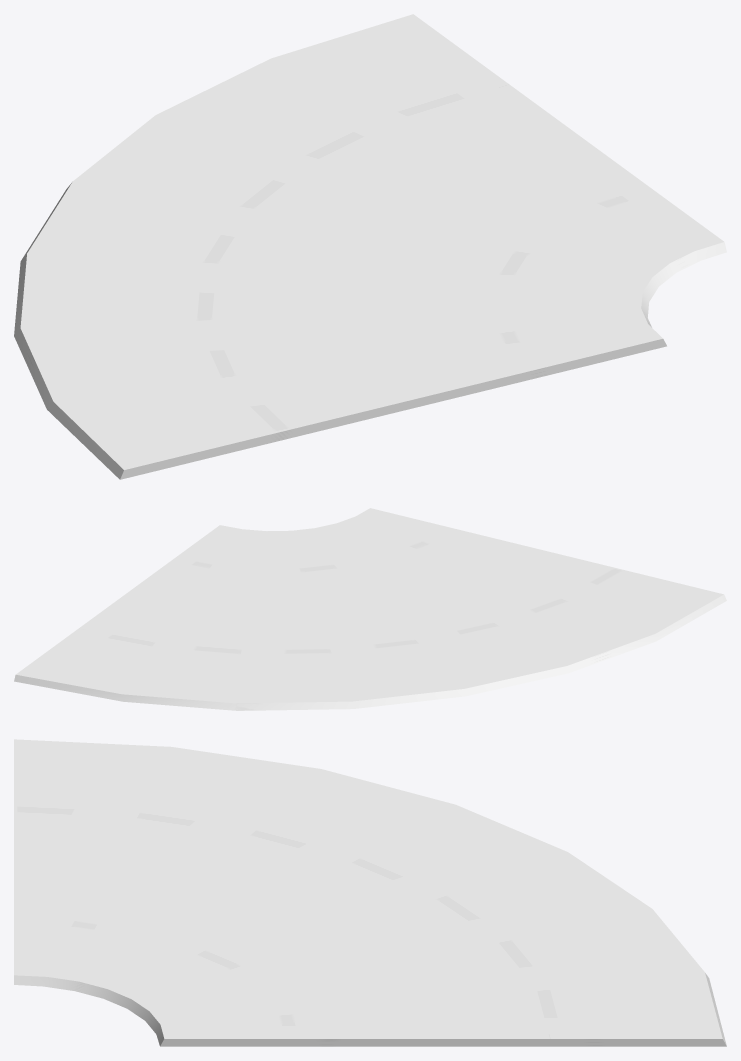
Rendered from bibeko-50-bocht-klein.FBX.
3 renders of one model, top to bottom at view 1: azimuth 30°, elevation 25°; view 2: azimuth 150°, elevation 25°; view 3: azimuth 270°, elevation 25°, orthographic. The views are drawn at different scales.
Visible parts, largest first — view 1: bibeko-50-bocht-klein; view 2: bibeko-50-bocht-klein; view 3: bibeko-50-bocht-klein.
Part boxes in pixels (left/top/right/bottom): bibeko-50-bocht-klein: left=14, top=14, right=726, bottom=479; bibeko-50-bocht-klein: left=14, top=508, right=726, bottom=710; bibeko-50-bocht-klein: left=14, top=739, right=726, bottom=1046.
Bounding box in the file's own units: 327 × 3.94 × 327.
Materials: 1 (1 with a texture image).
